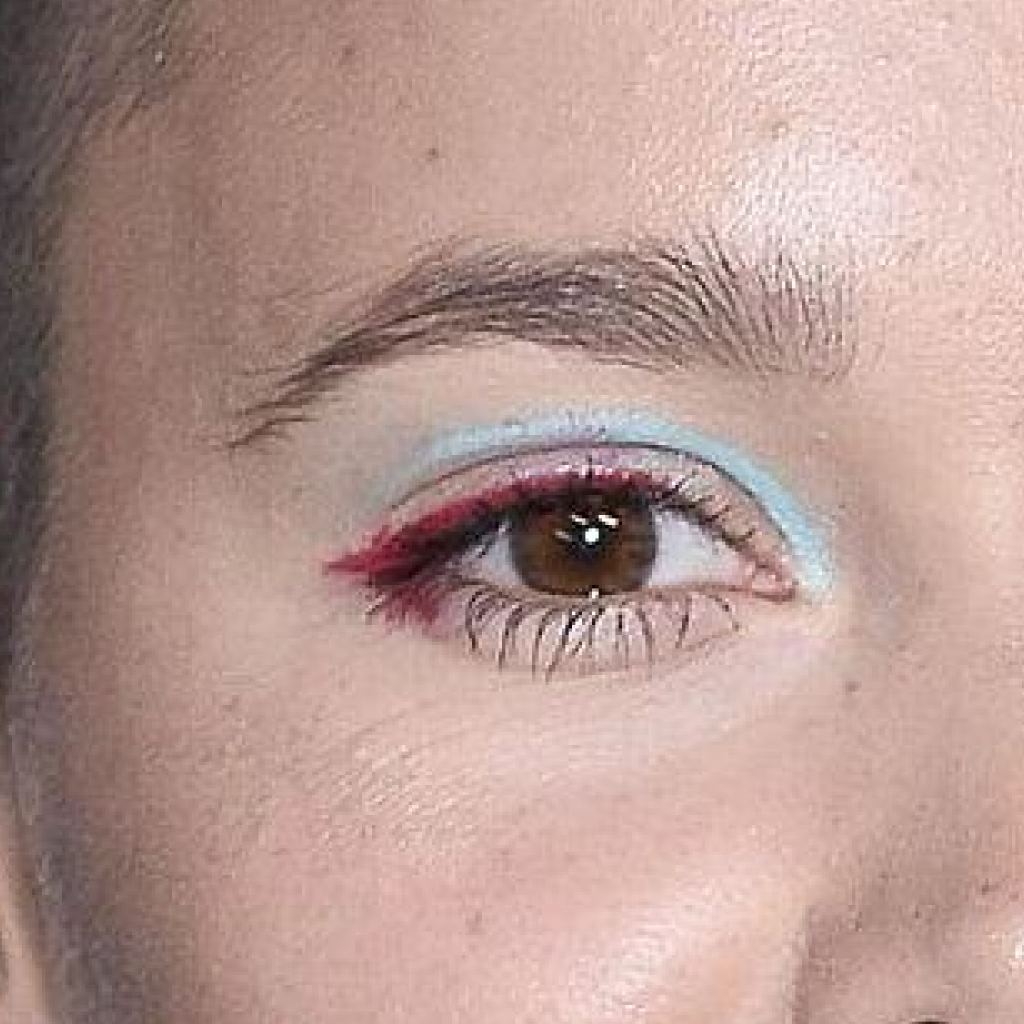iris: (512, 493, 654, 594)
pupil: (557, 505, 621, 560)
sclera: (644, 502, 759, 590), (449, 517, 537, 595)
